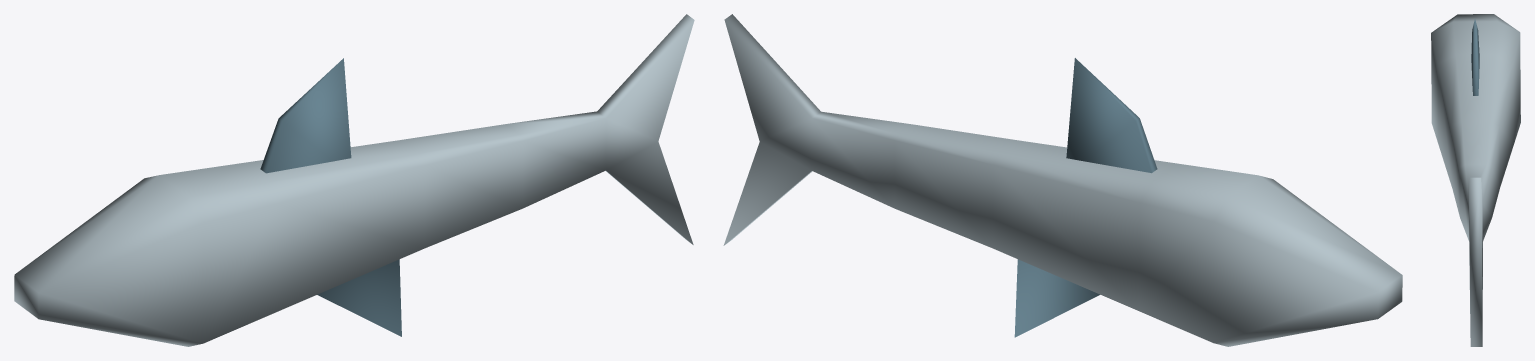
File: Fish_011.fbx
The picture shows the model from 3 angles, left to right: view 1: azimuth 30°, elevation 25°; view 2: azimuth 150°, elevation 25°; view 3: azimuth 270°, elevation 25°; orthographic projection. The views are drawn at different scales.
Parts seen in each view (by area): view 1: Fish_011; view 2: Fish_011; view 3: Fish_011.
Boxes of the visible parts, left/top/right/bottom form: Fish_011: left=14, top=14, right=694, bottom=346; Fish_011: left=723, top=14, right=1402, bottom=346; Fish_011: left=1431, top=14, right=1520, bottom=346.
Size of the model in its own units: 29.78 by 4.66 by 12.63.
1 material, 1 textured.
